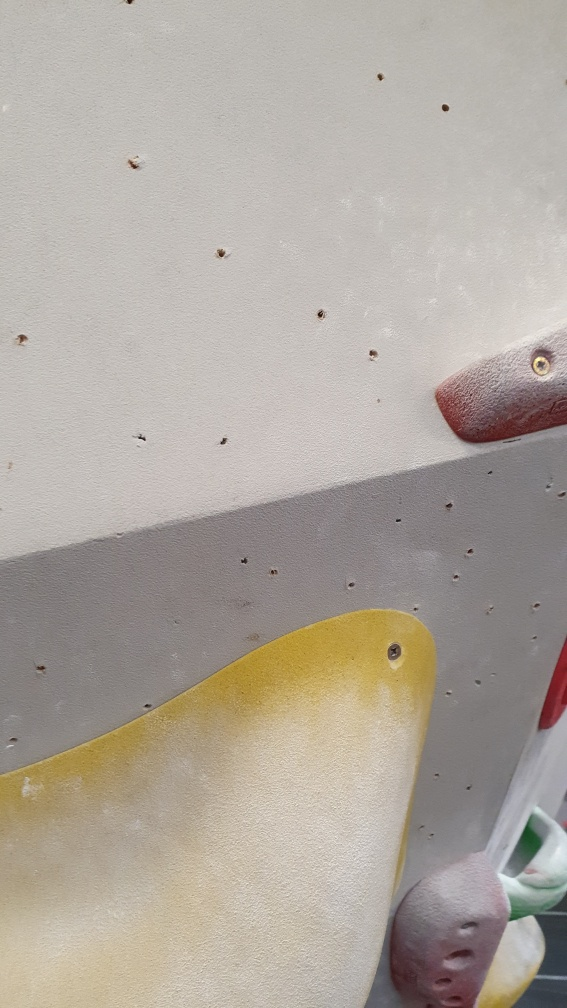Jug: (496, 802, 566, 922)
Pinch: (431, 322, 567, 451)
